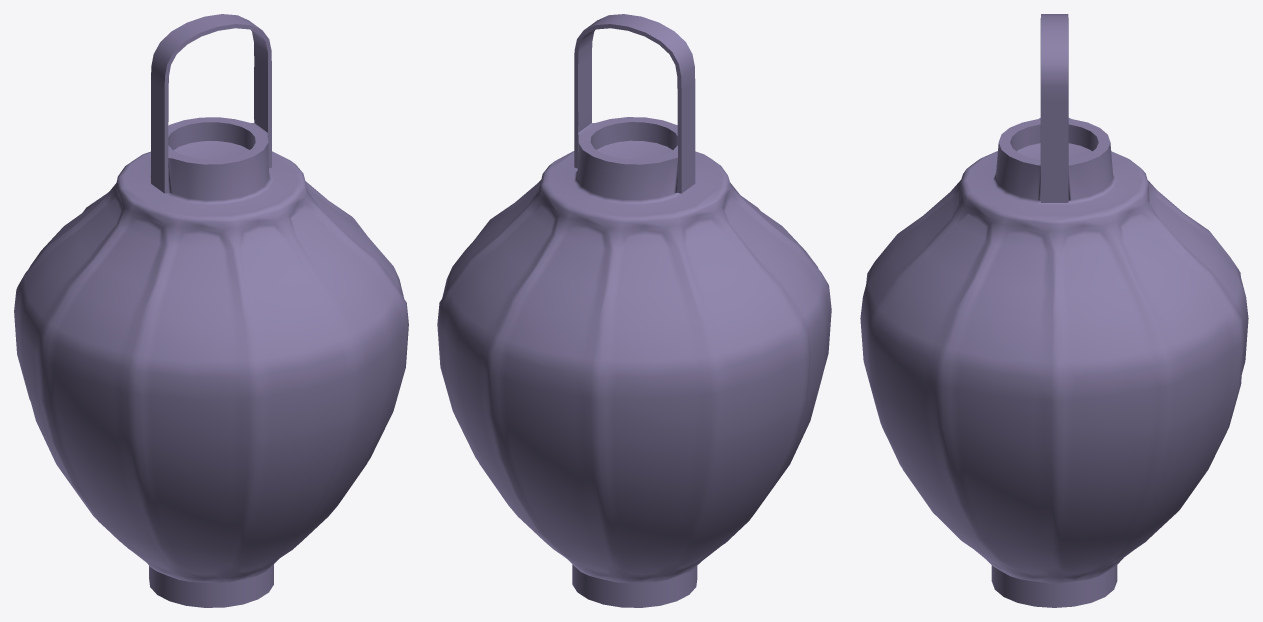
The model's file is sm_lamp_02.fbx.
3 renders of one model, left to right at view 1: azimuth 30°, elevation 25°; view 2: azimuth 150°, elevation 25°; view 3: azimuth 270°, elevation 25°, orthographic.
Visible parts, largest first — view 1: sm_lamp_02; view 2: sm_lamp_02; view 3: sm_lamp_02.
Boxes of the visible parts, bbox=[...] form: sm_lamp_02: bbox=[14, 14, 408, 607]; sm_lamp_02: bbox=[437, 14, 831, 607]; sm_lamp_02: bbox=[860, 14, 1248, 607].
Bounding box in the file's own units: 44.31 × 69.08 × 43.54.
